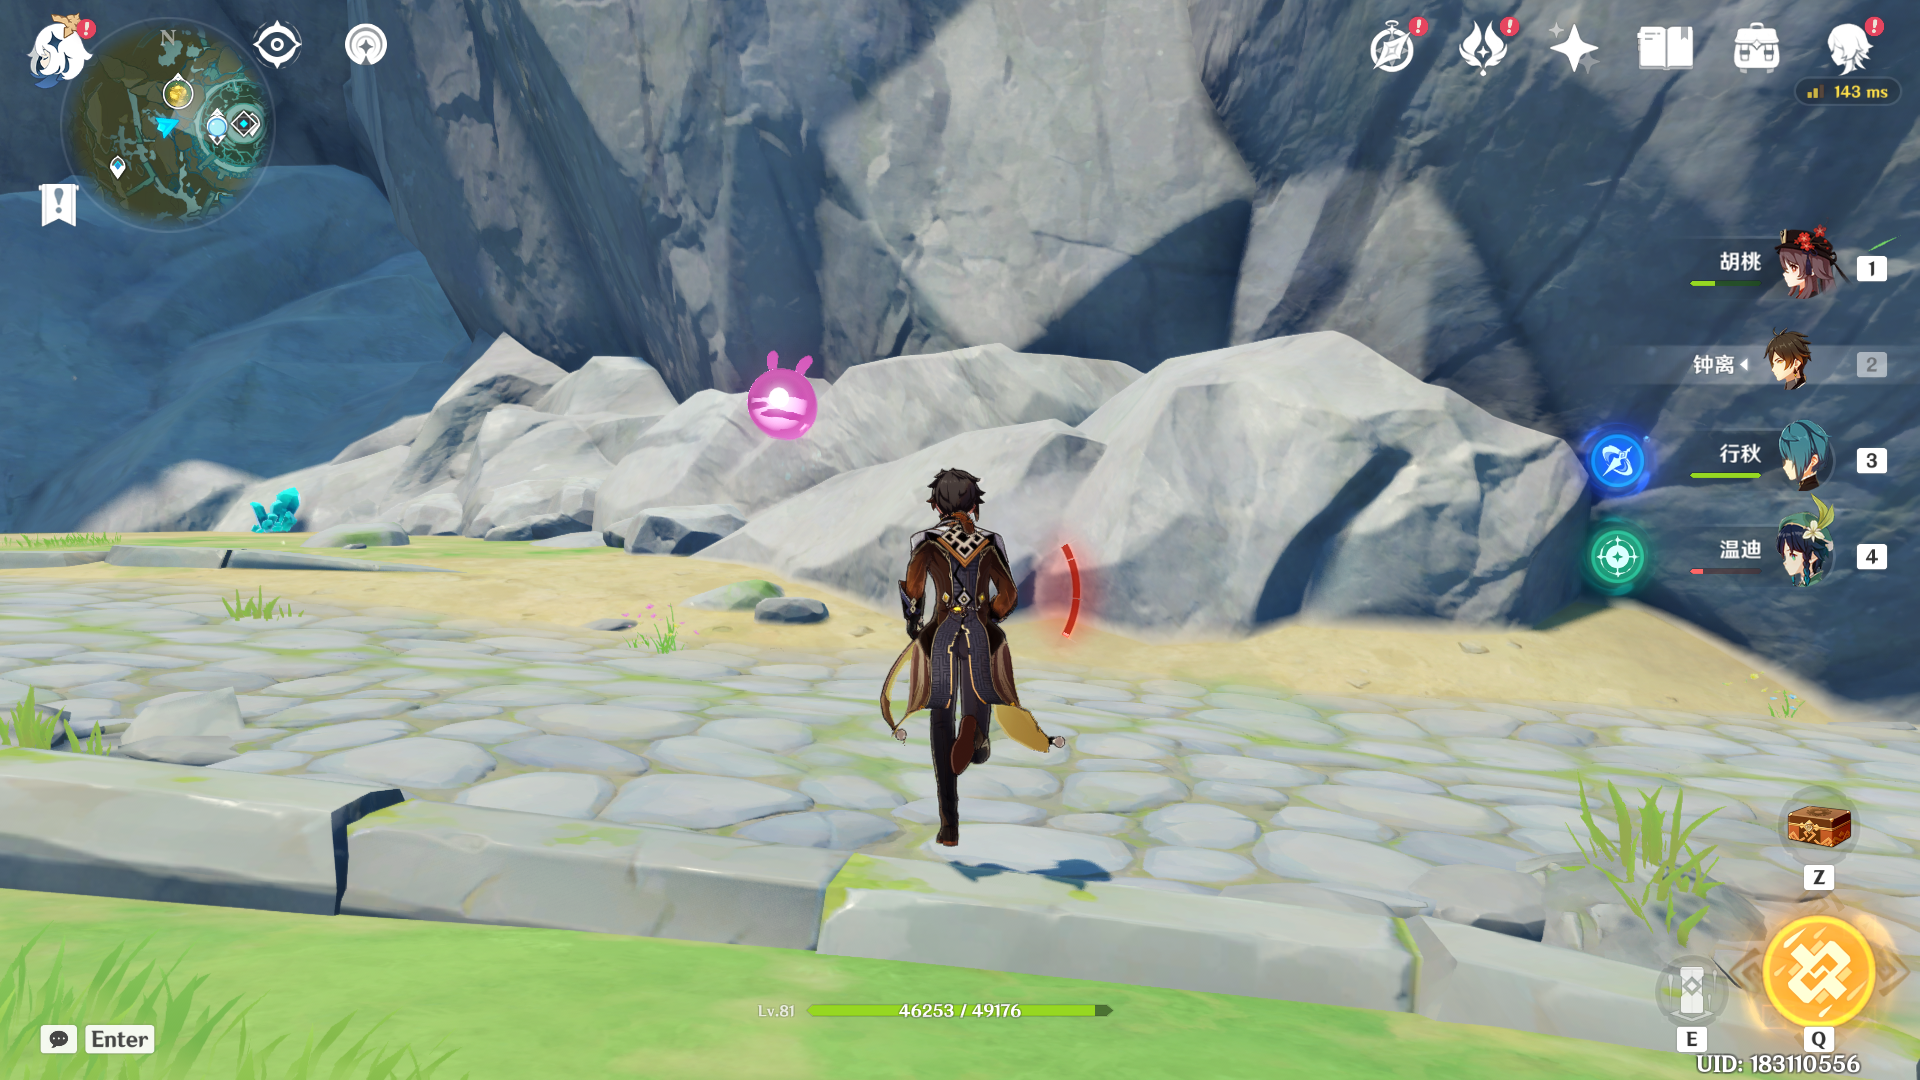character: (808, 434, 1102, 882)
